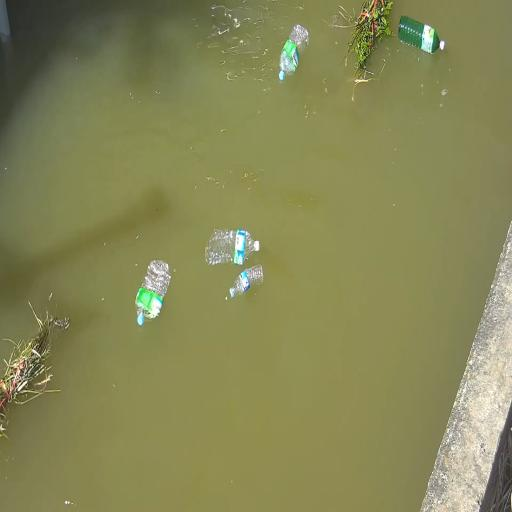plastic: (397, 14, 452, 66), (132, 256, 171, 324), (204, 226, 263, 263), (280, 28, 313, 90), (224, 264, 268, 298)
twig: (0, 302, 59, 435), (343, 0, 390, 82)
